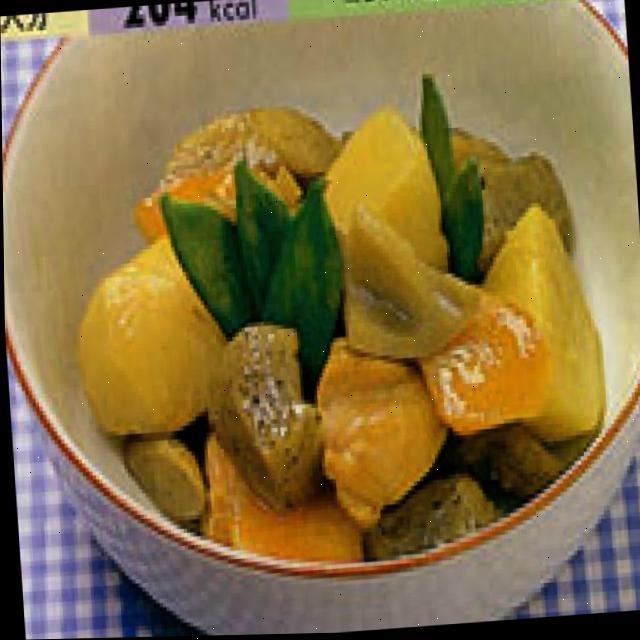鸡肉料理 含炸鸡: (60, 24, 591, 574)
